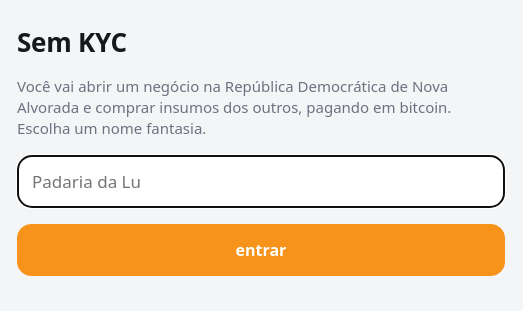
shows the join error from the server
Step 1. Type "X" into the field named "nome fantasia" → (261, 182), box 17,155 -> 505,208
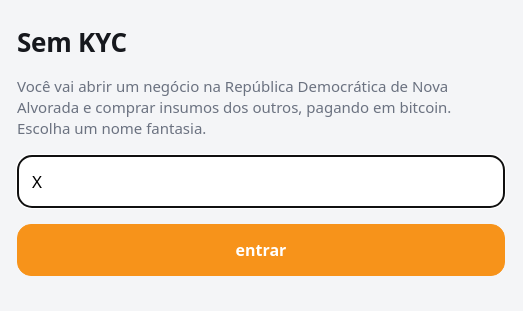
Step 2. Click the button "entrar" → (261, 250), box 17,224 -> 505,276
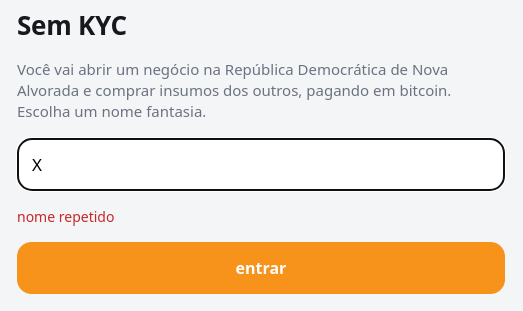
Check: the text "nome repetido" is shown, box 17,206 -> 114,226
